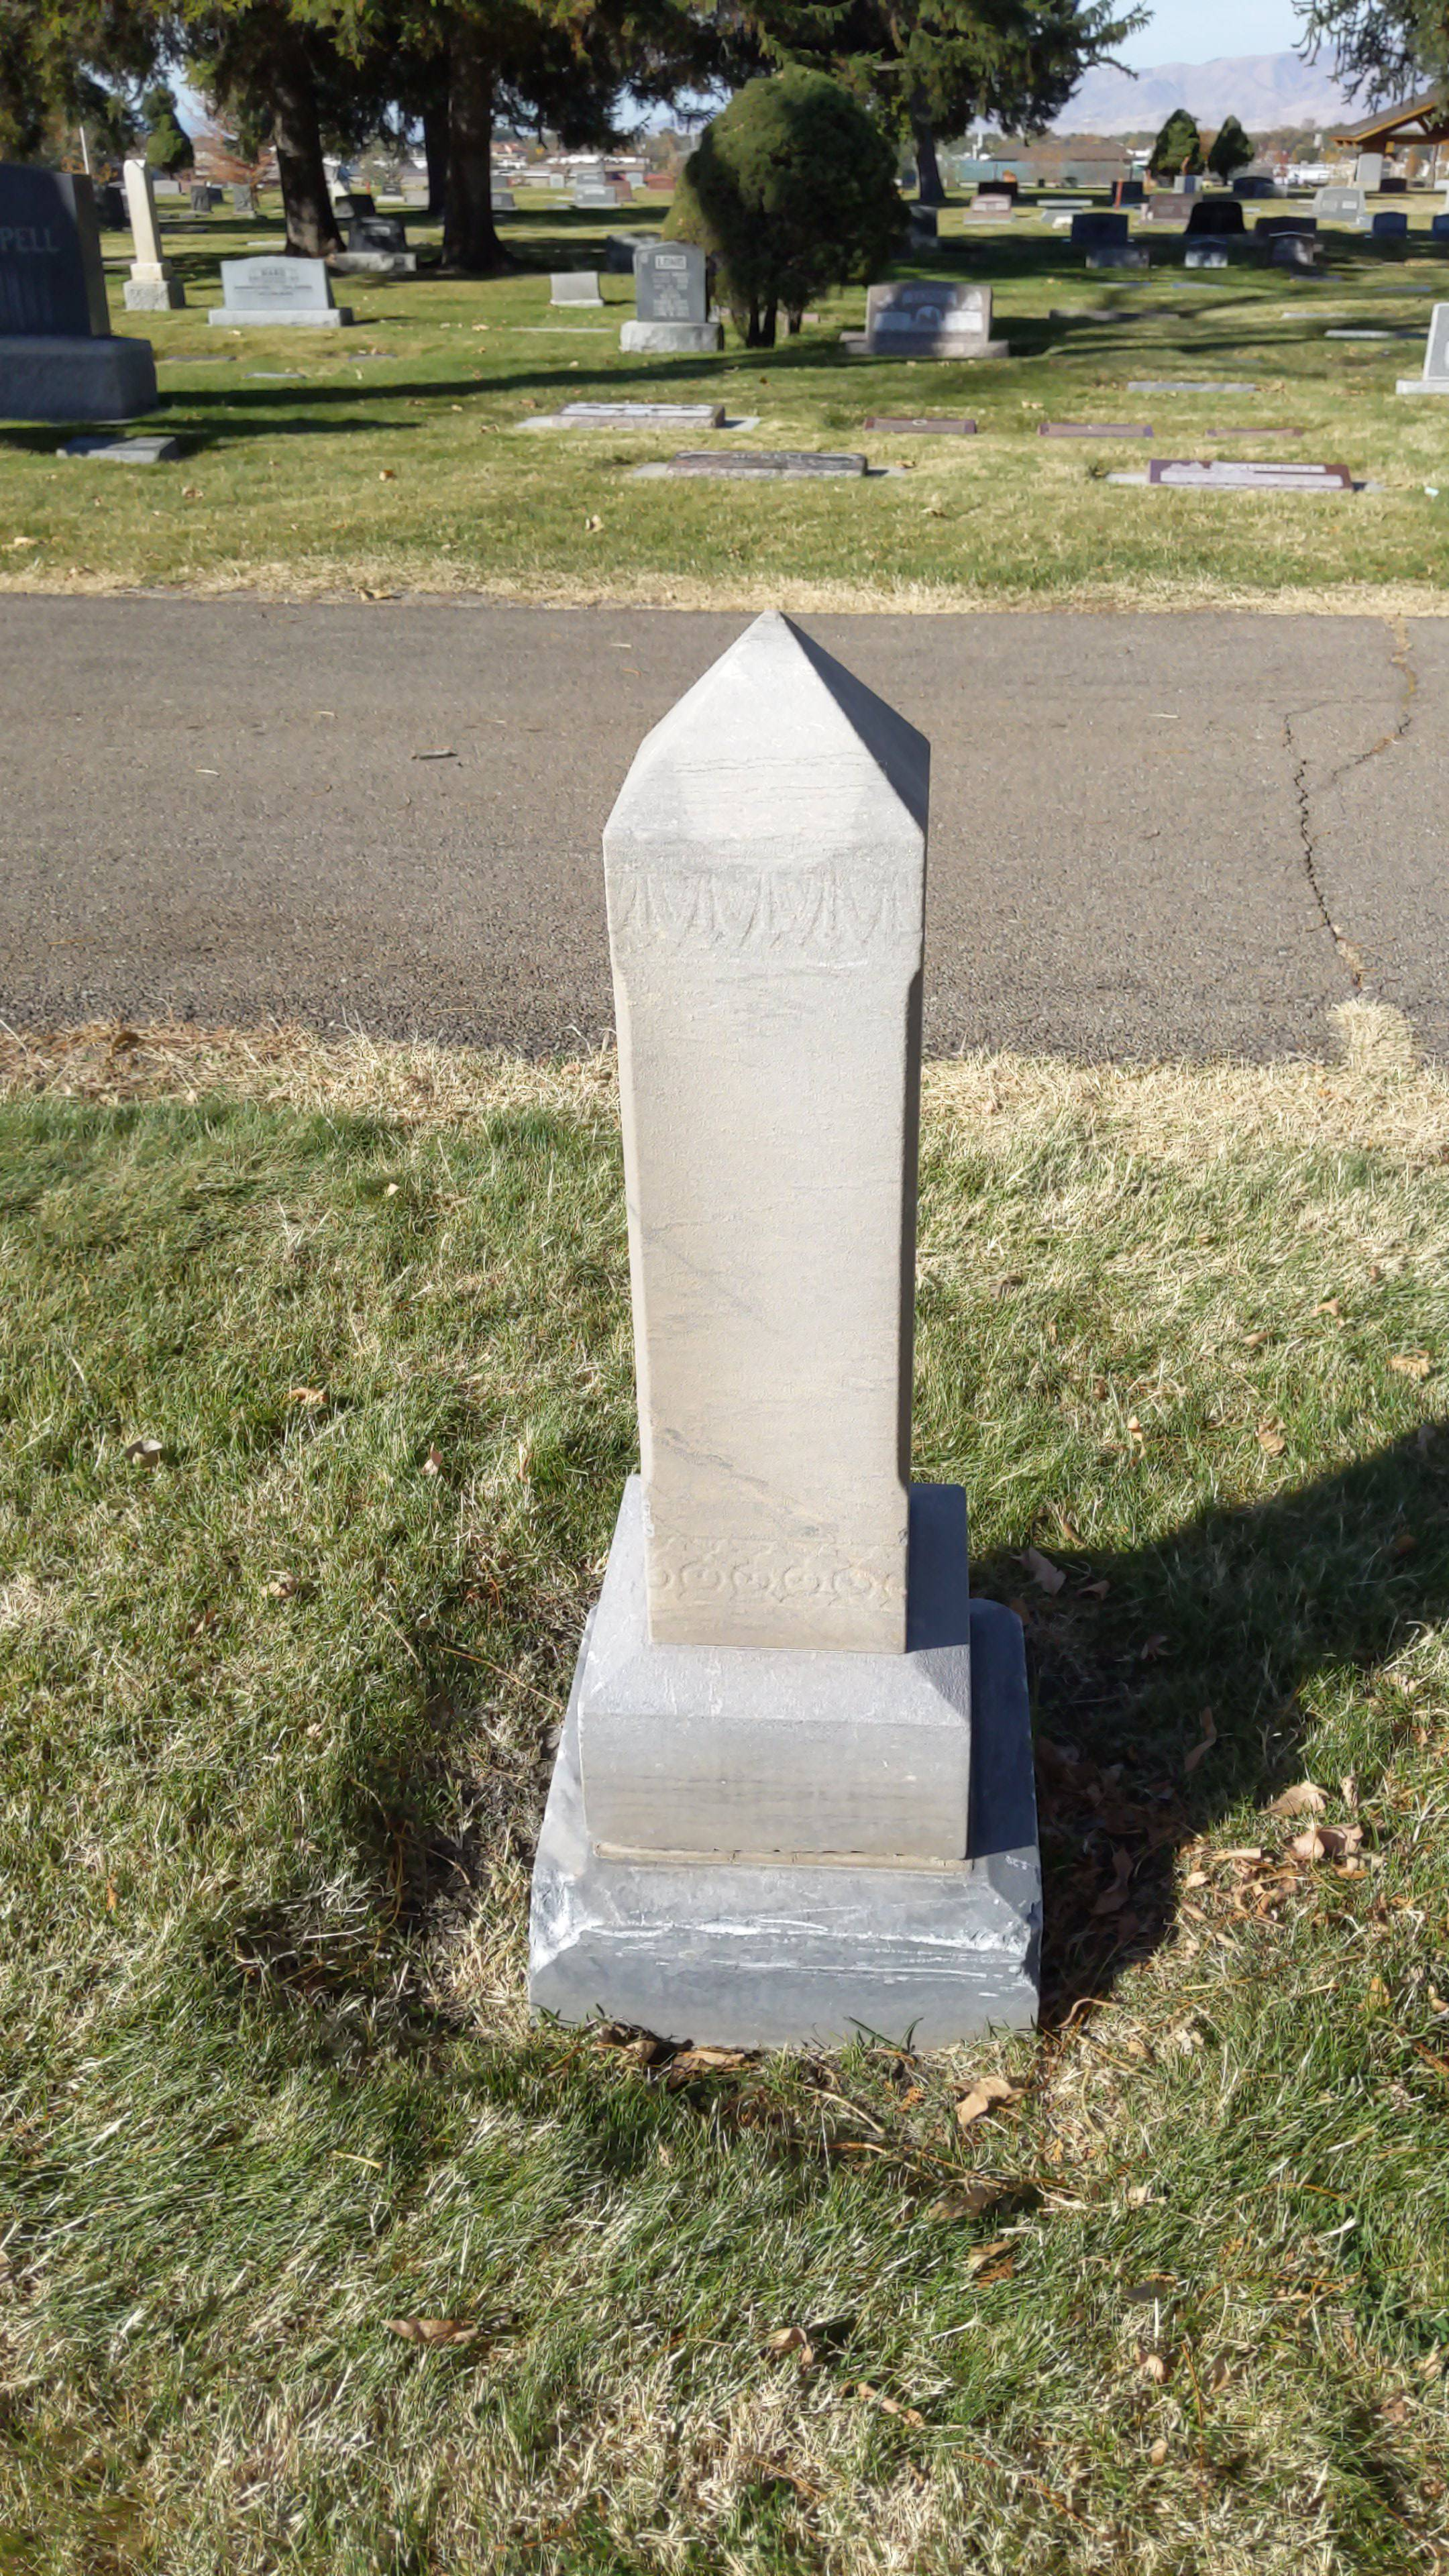obelisk: (571, 616, 973, 1870)
